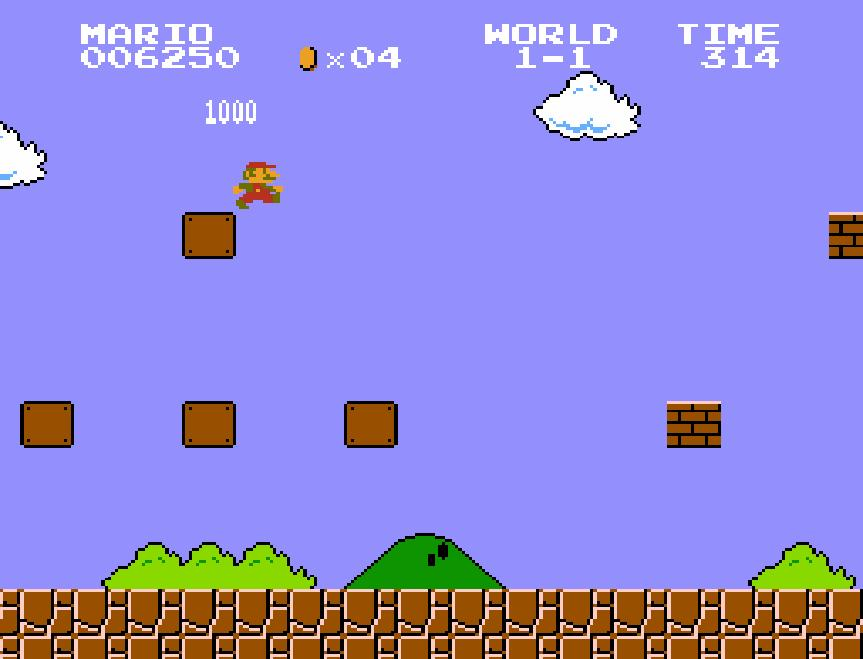big_mario: (234, 148, 284, 210)
